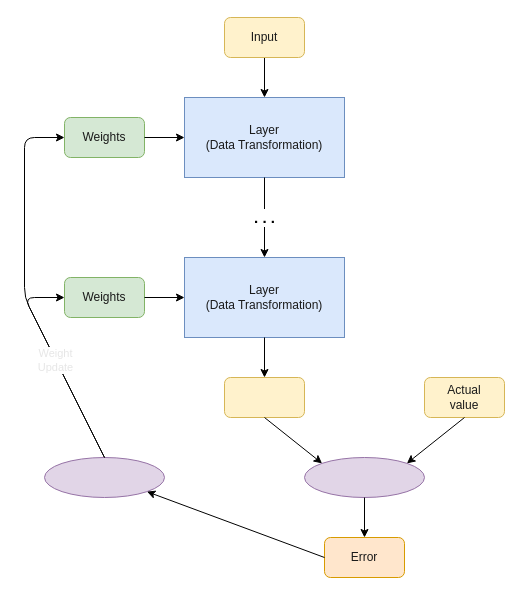
The diagram is 522 pixels wide and 595 high, and some of its shapes have lost their labels. Each missing label, with the box of its shape:
Loss Function: (304, 456, 424, 498)
Optimizer: (44, 456, 164, 498)
Predicted value: (224, 376, 304, 418)
